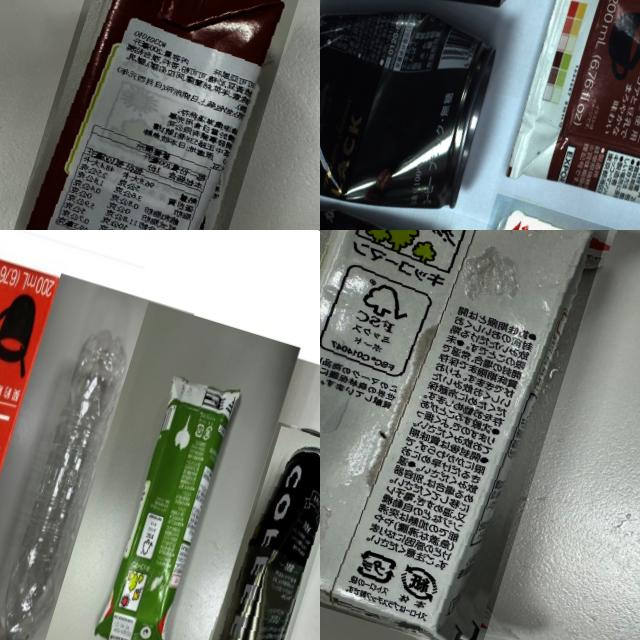Aluminium Foil: (320, 230, 614, 640), (0, 0, 301, 230), (91, 366, 244, 640), (490, 0, 640, 230), (0, 238, 68, 640)
Can: (320, 0, 508, 220), (199, 420, 320, 640)
Transparent Plastic Bottle: (0, 321, 137, 640)
